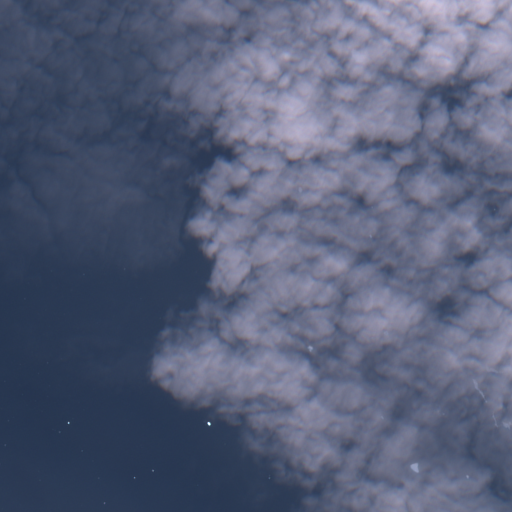Iceberg: (410, 463, 418, 472), (308, 346, 312, 351), (207, 421, 211, 425), (67, 421, 69, 424), (466, 475, 468, 478), (152, 469, 154, 471), (133, 476, 135, 478), (103, 502, 105, 504), (268, 477, 270, 478), (59, 431, 60, 432), (4, 444, 5, 445), (81, 450, 82, 451)
